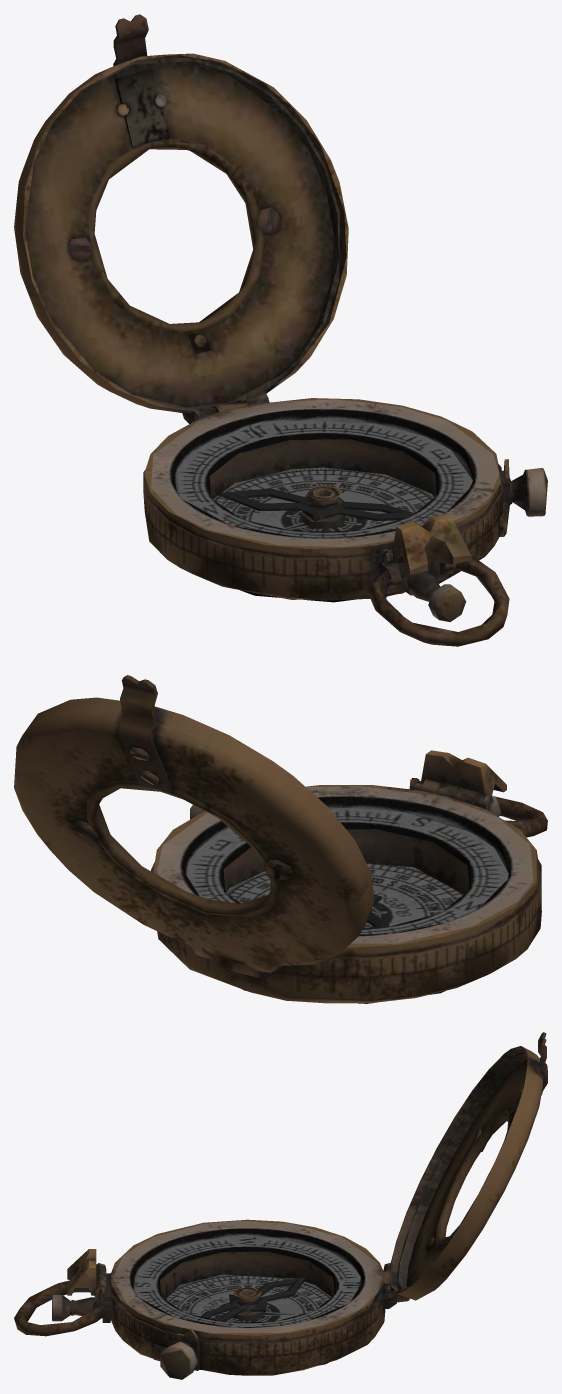
File: compass.glb
3 views of the same model, one above another, from view 1: azimuth 30°, elevation 25°; view 2: azimuth 150°, elevation 25°; view 3: azimuth 270°, elevation 25° (orthographic). The views are drawn at different scales.
Visible parts, largest first — view 1: seadogs_compass; view 2: seadogs_compass; view 3: seadogs_compass.
Boxes of the visible parts, x1,y1,x2,y2 form: seadogs_compass: (14, 14, 547, 646); seadogs_compass: (14, 675, 547, 1003); seadogs_compass: (14, 1032, 547, 1379).
Size of the model in its own units: 0.081 by 0.0864 by 0.1441.
Materials: 1 (1 with a texture image).
